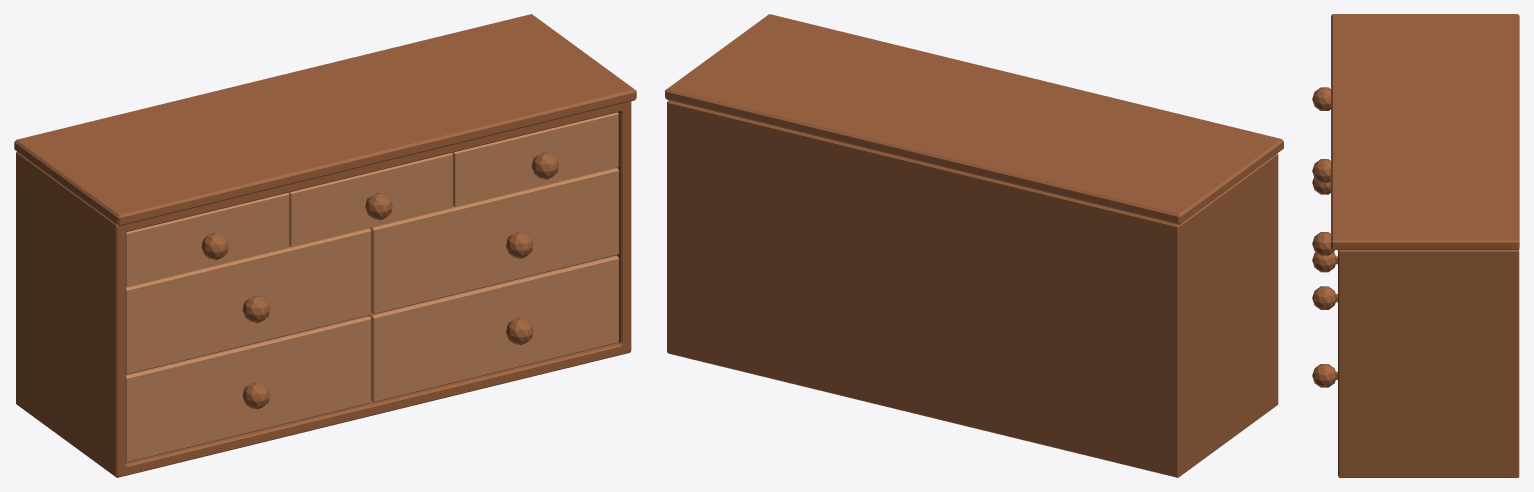
The picture shows the model from 3 angles, left to right: view 1: azimuth 30°, elevation 25°; view 2: azimuth 150°, elevation 25°; view 3: azimuth 270°, elevation 25°; orthographic projection. The views are drawn at different scales.
Visible parts, largest first — view 1: Drawer A, Drawer A.007, Drawer A.004, Drawer A.006, Drawer A.005, Drawer A.003, Drawer A.002, Drawer A.001; view 2: Drawer A; view 3: Drawer A, Drawer A.007, Drawer A.004, Drawer A.006, Drawer A.003, Drawer A.001, Drawer A.002.
Boxes of the visible parts, box(x1,y1,x2,y2) form: Drawer A: box(14, 14, 636, 477); Drawer A.007: box(369, 255, 618, 402); Drawer A.004: box(369, 167, 618, 314); Drawer A.006: box(126, 316, 371, 462); Drawer A.005: box(126, 228, 371, 374); Drawer A.003: box(452, 112, 618, 207); Drawer A.002: box(288, 152, 452, 247); Drawer A.001: box(126, 192, 289, 287); Drawer A: box(665, 14, 1283, 477); Drawer A: box(1331, 14, 1519, 477); Drawer A.007: box(1312, 364, 1337, 387); Drawer A.004: box(1312, 286, 1337, 309); Drawer A.006: box(1312, 252, 1337, 272); Drawer A.003: box(1312, 232, 1334, 255); Drawer A.001: box(1312, 87, 1330, 110); Drawer A.002: box(1312, 159, 1330, 182).
Bounding box in the file's own units: 7.73 × 3.78 × 2.98.
